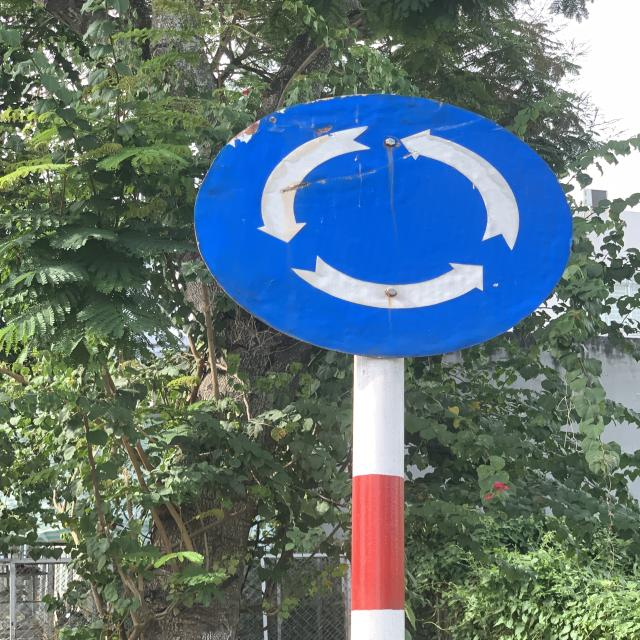Xe_Bus: (188, 86, 583, 360)
